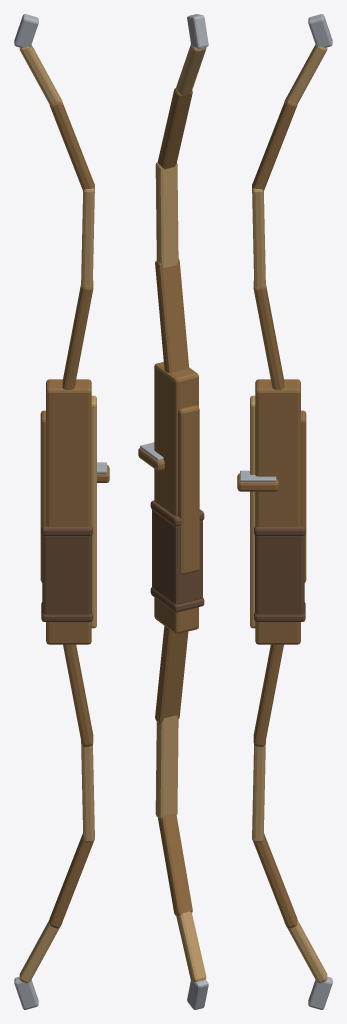
Rendered from bow.glb.
3 renders of one model, left to right at view 1: azimuth 90°, elevation 25°; view 2: azimuth 210°, elevation 25°; view 3: azimuth 270°, elevation 25°, orthographic.
Visible parts, largest first — view 1: Riser_Core, Grip_Wrap, Upper_Limb_0, Lower_Limb_0, Upper_Limb_2, Lower_Limb_2, Riser_Stripe, Upper_Limb_1, Lower_Limb_1, Riser_Belly, Upper_Limb_3, Lower_Limb_3 (+4 smaller); view 2: Riser_Core, Riser_Belly, Grip_Wrap, Upper_Limb_0, Upper_Limb_1, Lower_Limb_0, Lower_Limb_1, Lower_Limb_2, Upper_Limb_2, Lower_Limb_3, Upper_Limb_3, Upper_Tip (+5 smaller); view 3: Riser_Core, Grip_Wrap, Upper_Limb_0, Lower_Limb_0, Upper_Limb_2, Lower_Limb_2, Upper_Limb_1, Lower_Limb_1, Riser_Stripe, Riser_Belly, Upper_Limb_3, Lower_Limb_3 (+6 smaller).
Boxes of the visible parts, x1,y1,x2,y2 form: Riser_Core: (46, 379, 91, 644); Grip_Wrap: (42, 535, 91, 614); Upper_Limb_0: (62, 281, 93, 389); Lower_Limb_0: (63, 644, 93, 746); Upper_Limb_2: (49, 101, 94, 190); Lower_Limb_2: (49, 833, 93, 928); Riser_Stripe: (91, 395, 96, 628); Upper_Limb_1: (81, 184, 94, 289); Lower_Limb_1: (81, 741, 94, 842); Riser_Belly: (40, 410, 46, 582); Upper_Limb_3: (19, 44, 62, 105); Lower_Limb_3: (19, 919, 62, 983); Riser_Core: (154, 362, 198, 633); Riser_Belly: (178, 405, 199, 574); Grip_Wrap: (152, 510, 202, 604); Upper_Limb_0: (155, 258, 189, 372); Upper_Limb_1: (155, 162, 178, 268); Lower_Limb_0: (155, 626, 188, 723); Lower_Limb_1: (155, 715, 178, 818); Lower_Limb_2: (158, 813, 192, 915); Upper_Limb_2: (157, 88, 192, 169); Lower_Limb_3: (176, 911, 206, 982); Upper_Limb_3: (176, 44, 206, 95); Upper_Tip: (187, 14, 208, 48); Riser_Core: (255, 379, 300, 644); Grip_Wrap: (255, 535, 304, 614); Upper_Limb_0: (253, 281, 284, 389); Lower_Limb_0: (253, 644, 283, 746); Upper_Limb_2: (252, 101, 297, 190); Lower_Limb_2: (253, 833, 297, 928); Upper_Limb_1: (252, 184, 265, 289); Lower_Limb_1: (252, 741, 265, 842); Riser_Stripe: (250, 395, 255, 628); Riser_Belly: (300, 410, 306, 582); Upper_Limb_3: (284, 44, 327, 105); Lower_Limb_3: (284, 919, 327, 983).
Bounding box in the file's own units: 0.048 × 1.32 × 0.1146.
